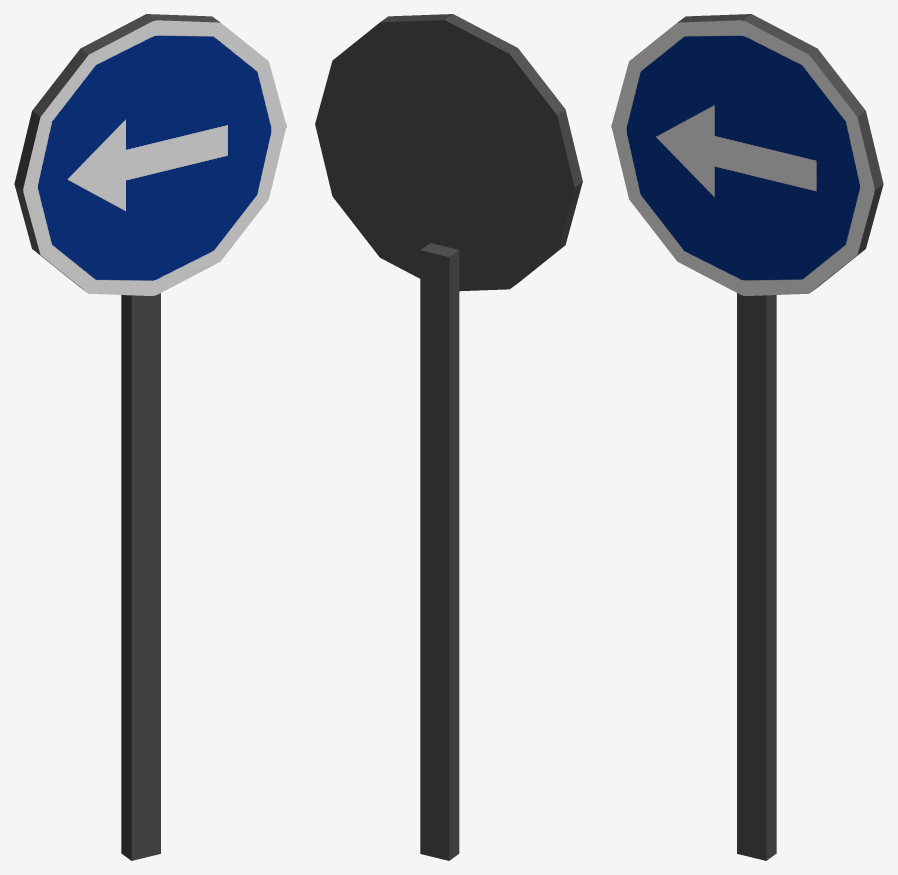
Rendered from traffic_sign_go_left.glb.
The picture shows the model from 3 angles, left to right: view 1: azimuth 30°, elevation 25°; view 2: azimuth 150°, elevation 25°; view 3: azimuth 330°, elevation 25°; orthographic projection.
Parts seen in each view (by area): view 1: Circle, Plane; view 2: Circle, Plane; view 3: Circle, Plane.
Boxes of the visible parts, x1,y1,x2,y2 form: Circle: (14,14,286,296); Plane: (121,293,160,860); Circle: (315,14,582,291); Plane: (420,243,459,860); Circle: (611,14,883,296); Plane: (737,293,776,860).
Size of what is drawn, in the model's own units: 0.9 by 2.75 by 0.11.
3 materials, 1 textured.
